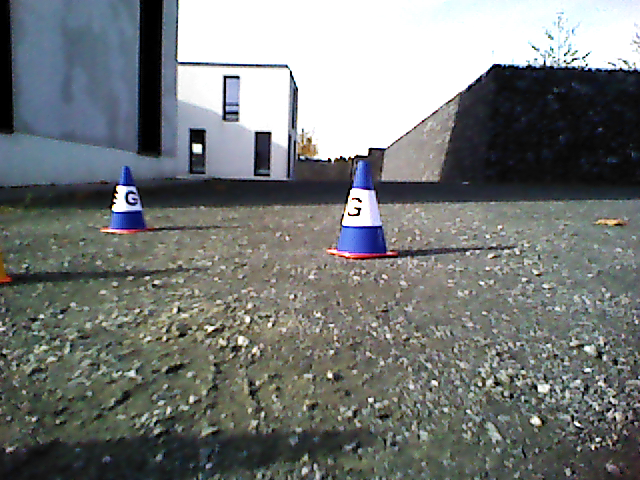bluecone: (337, 161, 387, 252), (109, 166, 144, 229)
